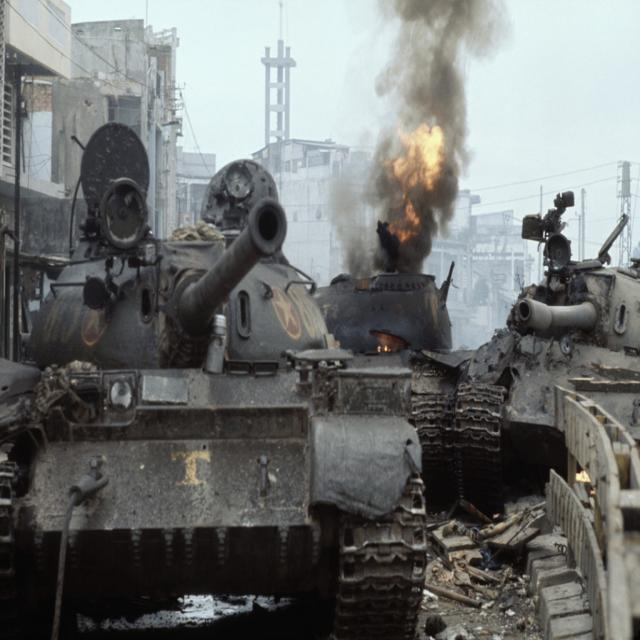tank: (0, 117, 428, 639), (454, 187, 640, 513), (310, 218, 456, 476)
